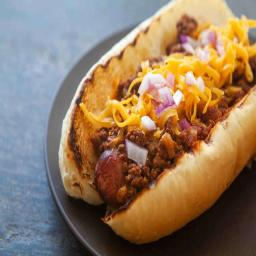hotdog: (56, 0, 256, 246)
